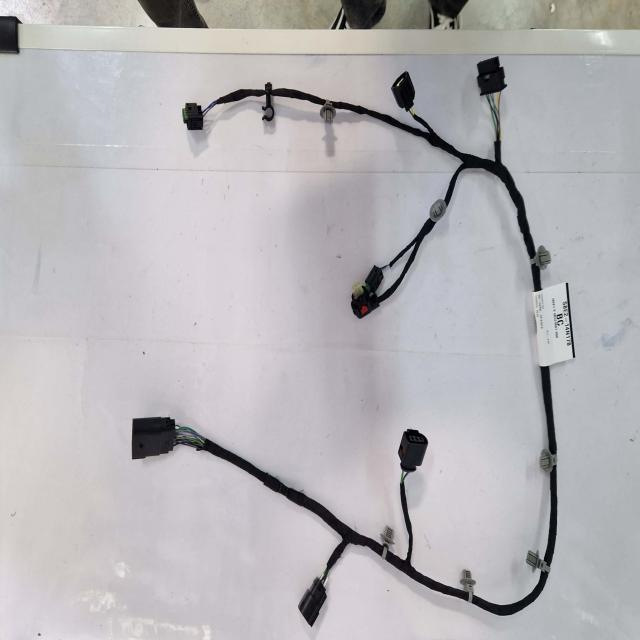Clip: (526, 551, 551, 574), (530, 246, 551, 271), (262, 82, 275, 122), (460, 570, 475, 602), (381, 526, 394, 560), (540, 450, 558, 473), (320, 101, 336, 124), (430, 200, 446, 223)
Connector: (131, 417, 176, 459), (351, 265, 384, 318), (299, 577, 326, 627), (399, 429, 428, 473), (478, 57, 506, 95), (391, 71, 415, 111), (182, 103, 204, 130)
Gape: (174, 425, 205, 450), (486, 91, 501, 141)
Info: (532, 282, 575, 366)
MHEV_N11_Cable: (208, 84, 541, 318), (388, 366, 558, 618), (202, 438, 381, 625), (392, 72, 414, 109)
